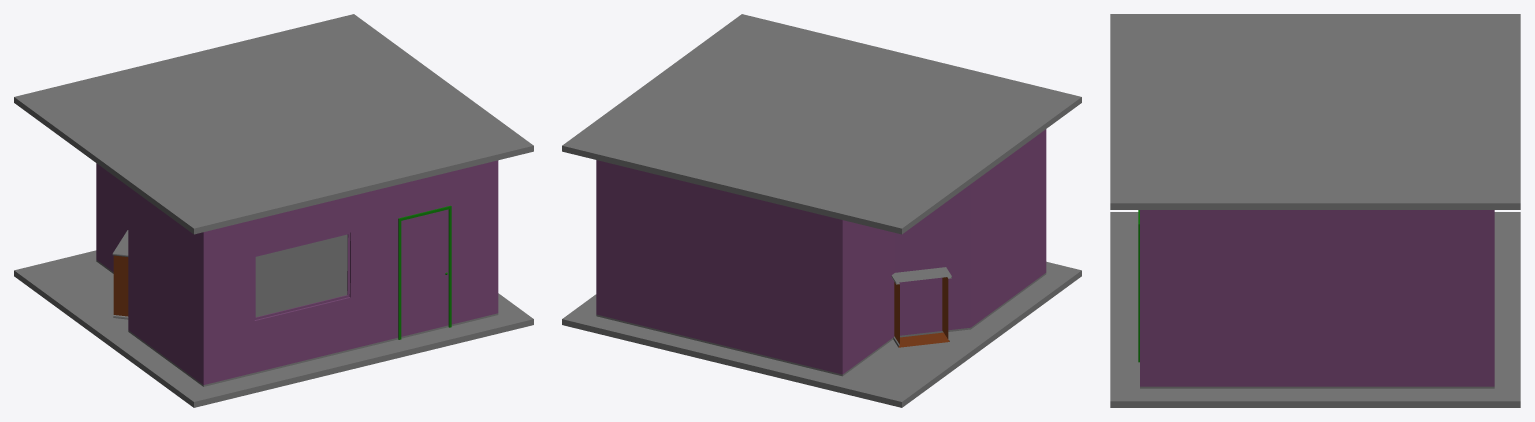
Rendered from FloorPlan22.fbx.
3 views of the same model, side by side, from view 1: azimuth 30°, elevation 25°; view 2: azimuth 150°, elevation 25°; view 3: azimuth 270°, elevation 25° (orthographic). The views are drawn at different scales.
Visible parts, largest first — view 1: Ceiling, StandardWallSize, Floor, Window, StandardIslandHeight2, StandardDoorFrame1; view 2: StandardWallSize, Ceiling, Floor, StandardIslandHeight2; view 3: Ceiling, StandardWallSize, Floor.
Boxes of the visible parts, x1=… form: Ceiling: x1=14, y1=14, x2=533, y2=234; StandardWallSize: x1=96, y1=160, x2=498, y2=386; Floor: x1=14, y1=250, x2=533, y2=407; Window: x1=254, y1=232, x2=350, y2=319; StandardIslandHeight2: x1=112, y1=230, x2=128, y2=319; StandardDoorFrame1: x1=398, y1=205, x2=451, y2=339; StandardWallSize: x1=596, y1=129, x2=1046, y2=376; Ceiling: x1=562, y1=14, x2=1081, y2=234; Floor: x1=562, y1=261, x2=1081, y2=407; StandardIslandHeight2: x1=891, y1=267, x2=951, y2=347; Ceiling: x1=1110, y1=14, x2=1520, y2=209; StandardWallSize: x1=1140, y1=210, x2=1494, y2=388; Floor: x1=1110, y1=212, x2=1520, y2=407.
Bounding box in the file's own units: 600 × 302 × 550.
